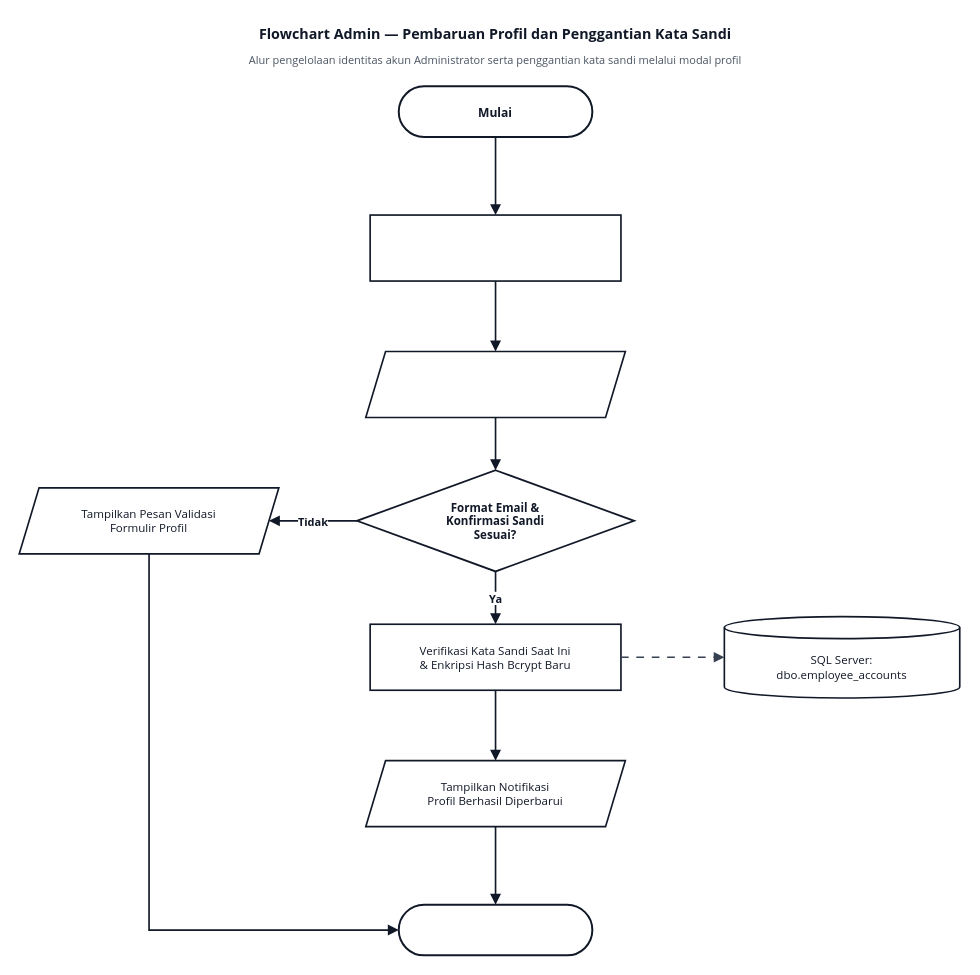
Image size: 980x975. Some labels were removed from this diagram. Here are the shapes that lost their labels. From the top down, the box of each, then its label:
(369, 214, 621, 281): Klik Panel Profil Akun pada Sudut Bawah Sidebar
(364, 350, 626, 418): Masukkan Nama Lengkap, Email, atau Kata Sandi Baru
(397, 903, 593, 956): Selesai
